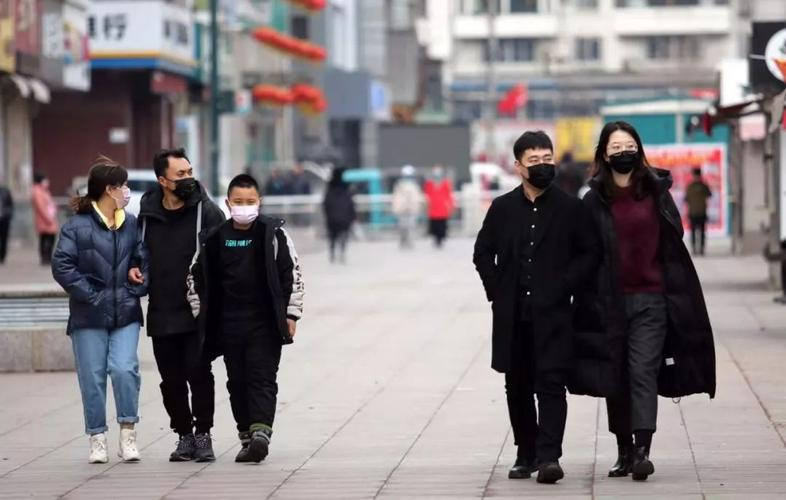mask: (521, 144, 556, 186), (228, 185, 258, 225)
